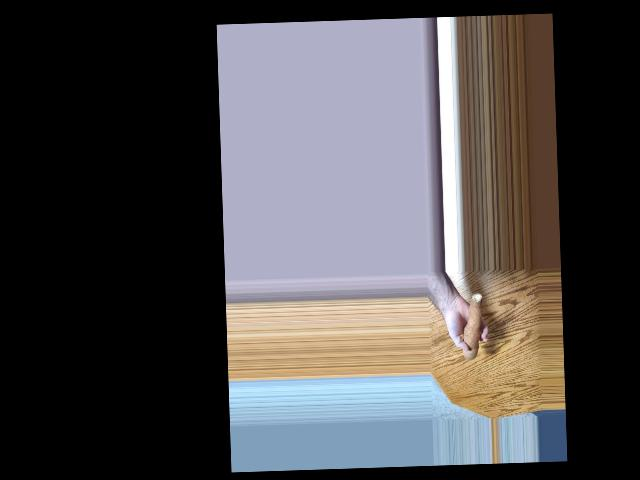sweet_potato: (460, 294, 482, 359)
